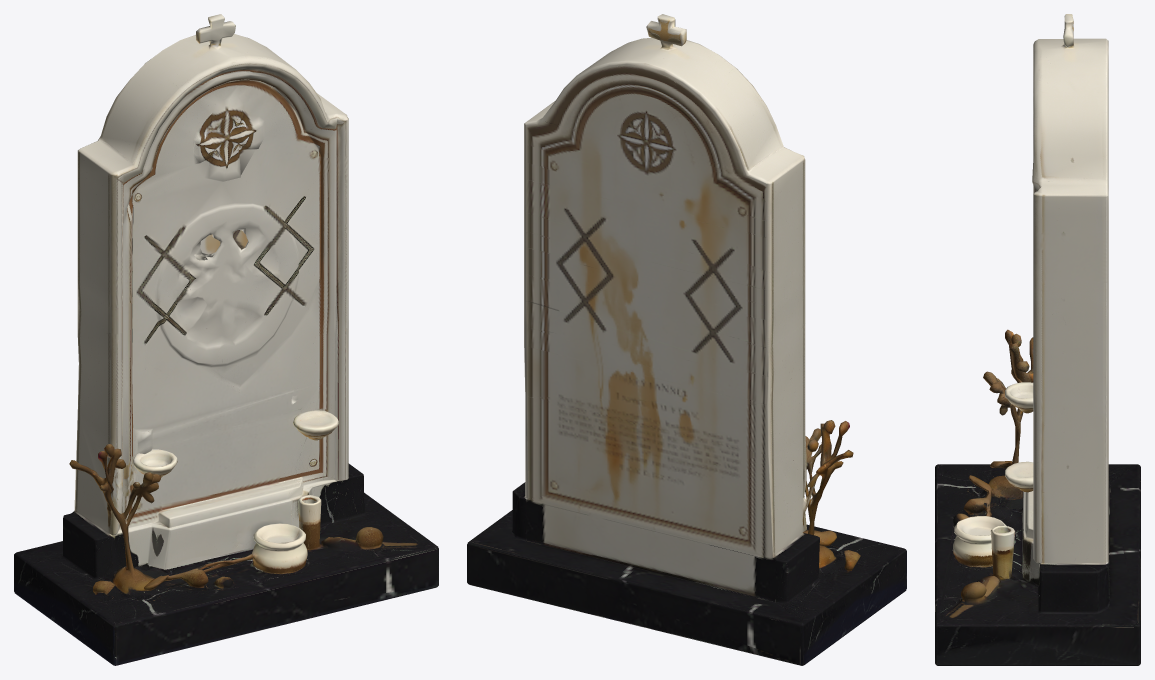
The model's file is alderamontico-grave-marker.glb.
3 renders of one model, left to right at view 1: azimuth 30°, elevation 25°; view 2: azimuth 150°, elevation 25°; view 3: azimuth 270°, elevation 25°, orthographic. The views are drawn at different scales.
Bounding box in the file's own units: 1.15 × 1.91 × 0.6223.
Materials: 1 (1 with a texture image).
